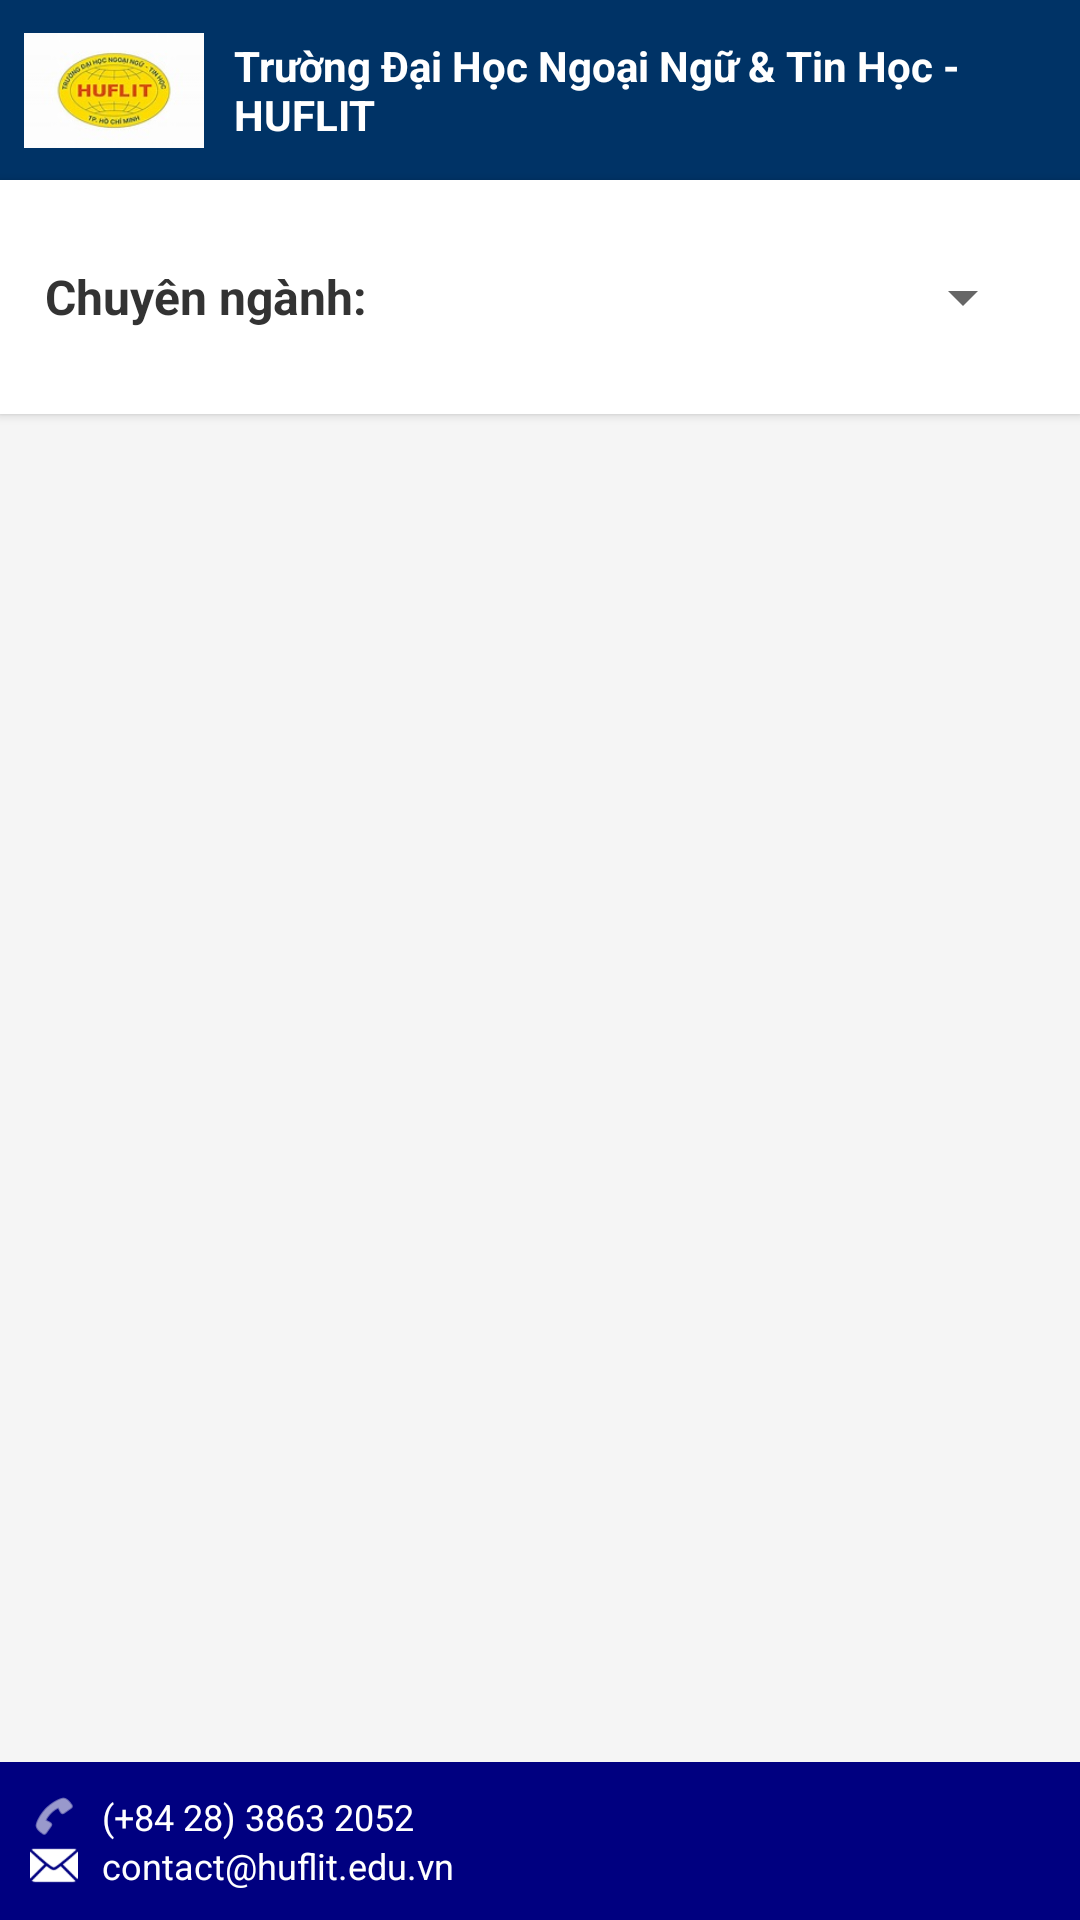

Where icons sit on this 1080×1920 app screen, as (x1, y1, x2, y2):
call: (35, 1797, 73, 1835)
email: (30, 1848, 78, 1883)
